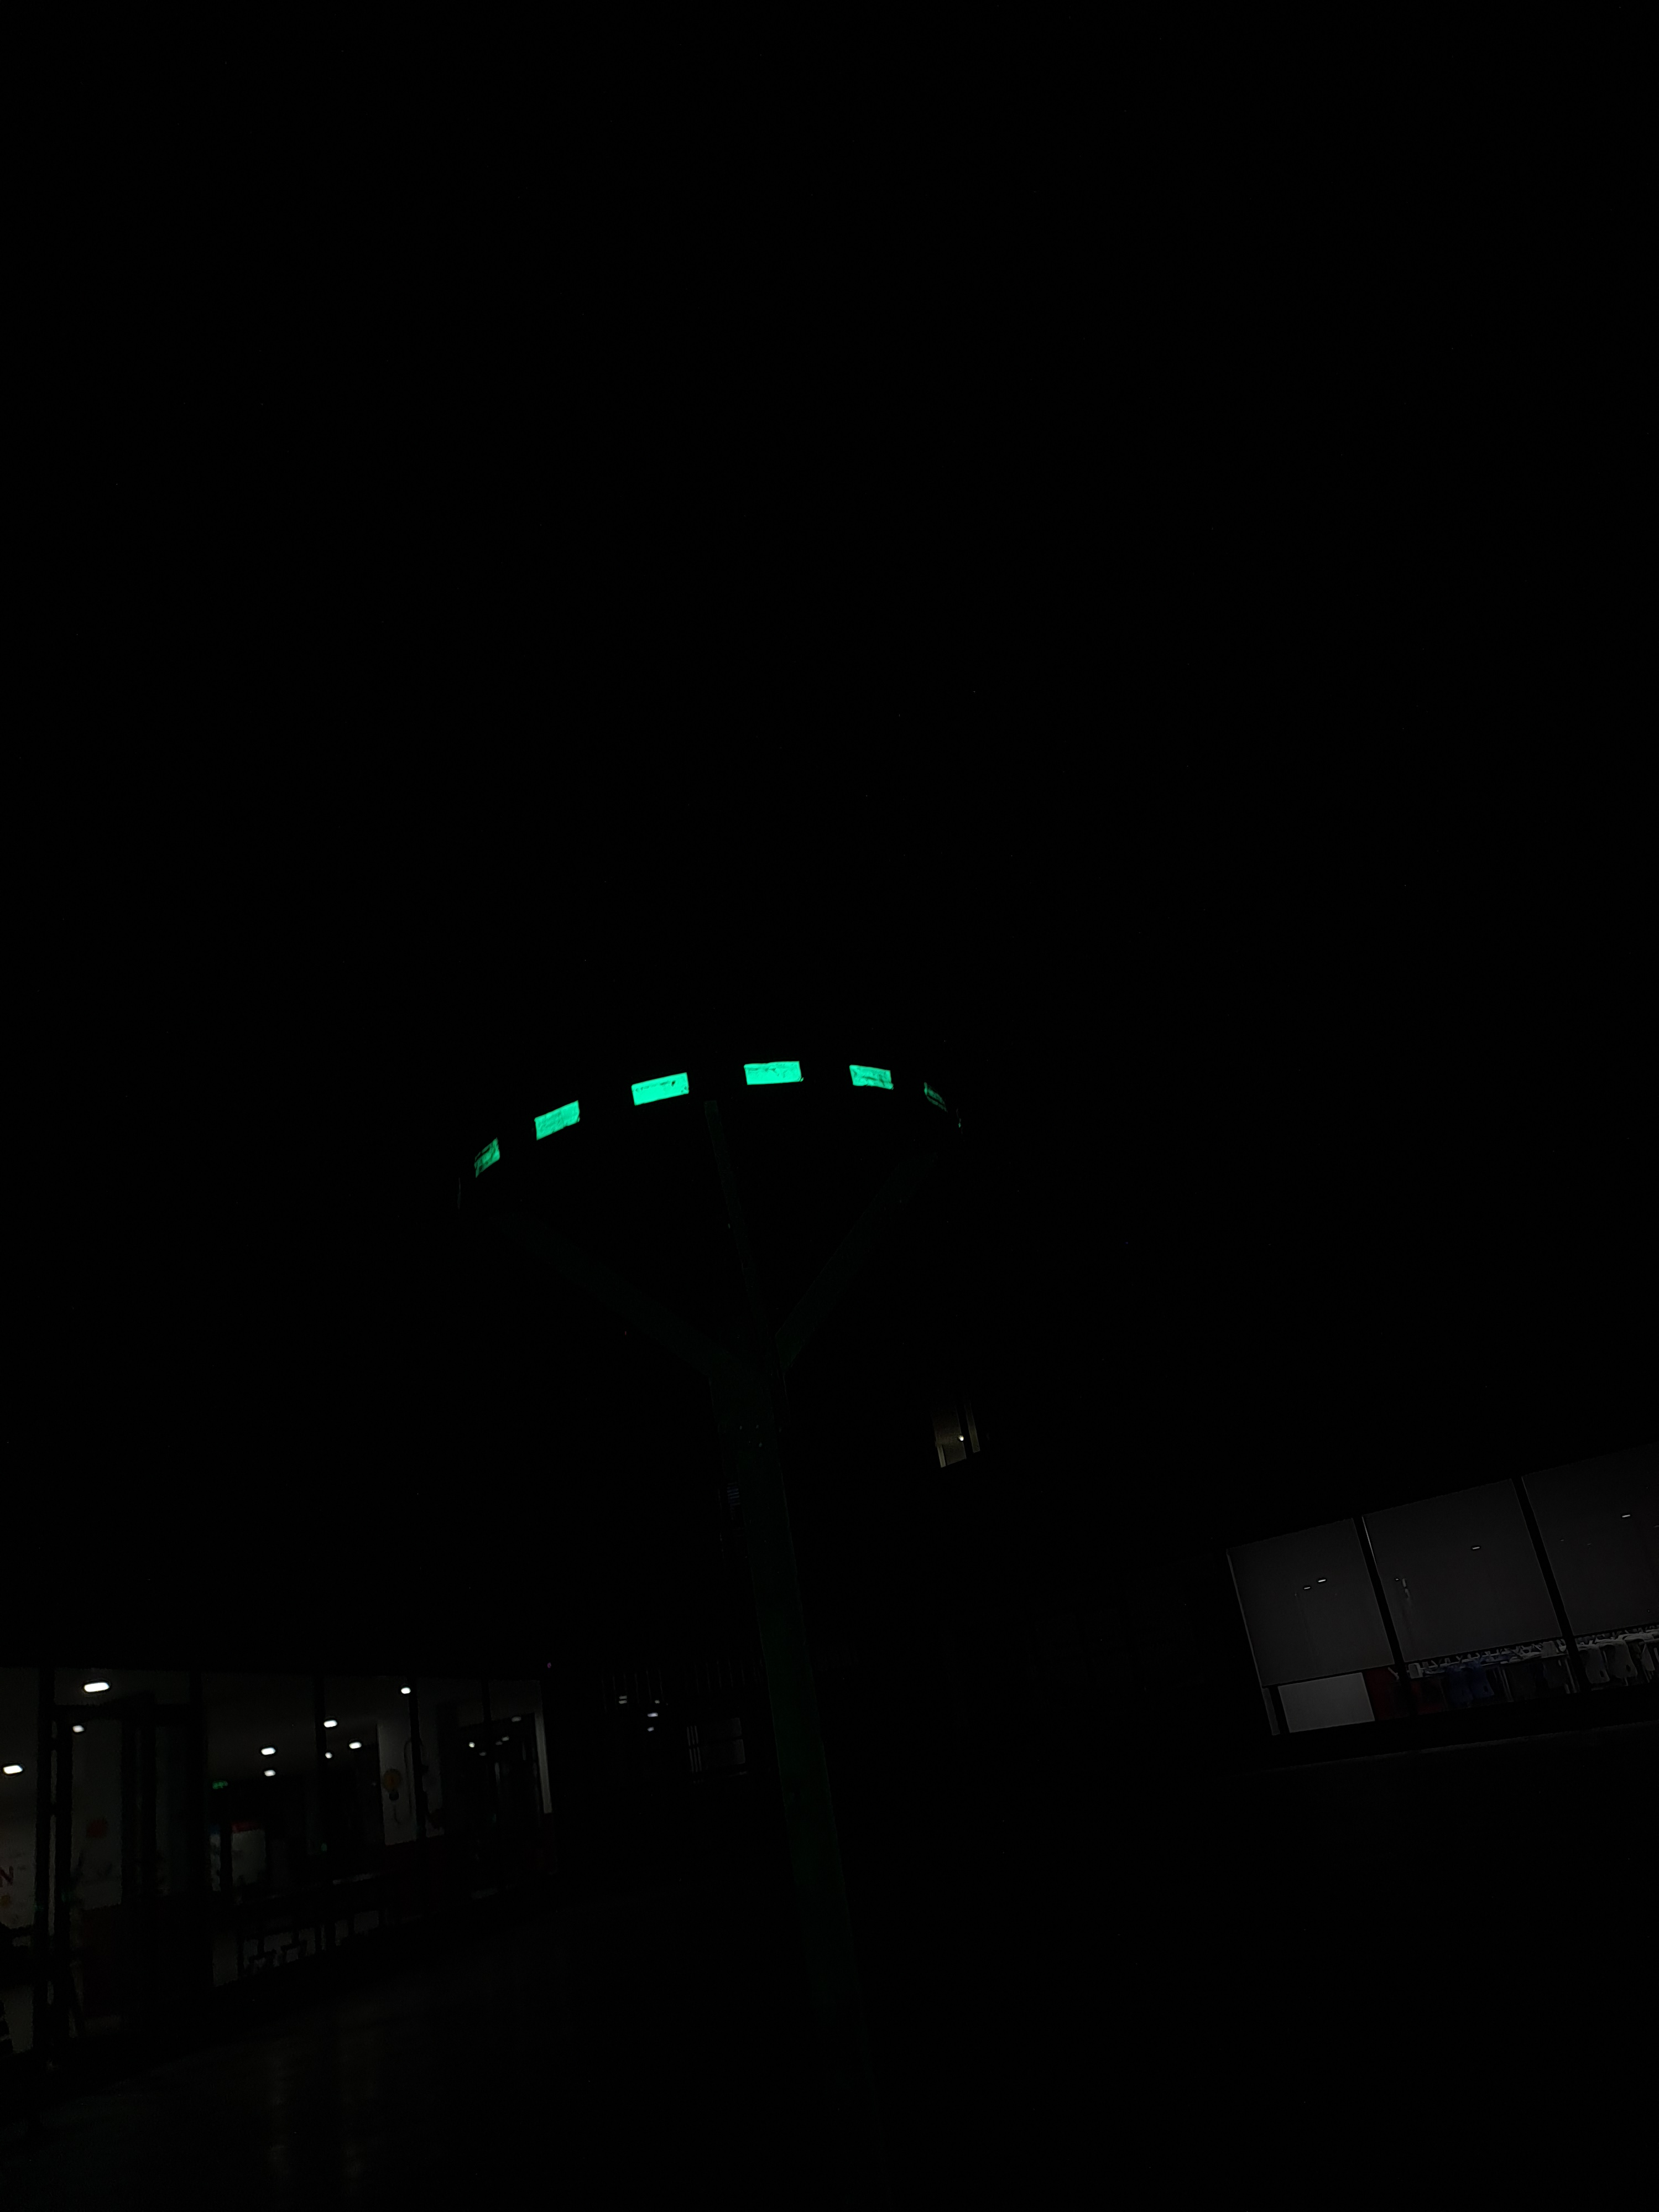hoop: (453, 1054, 901, 1183)
